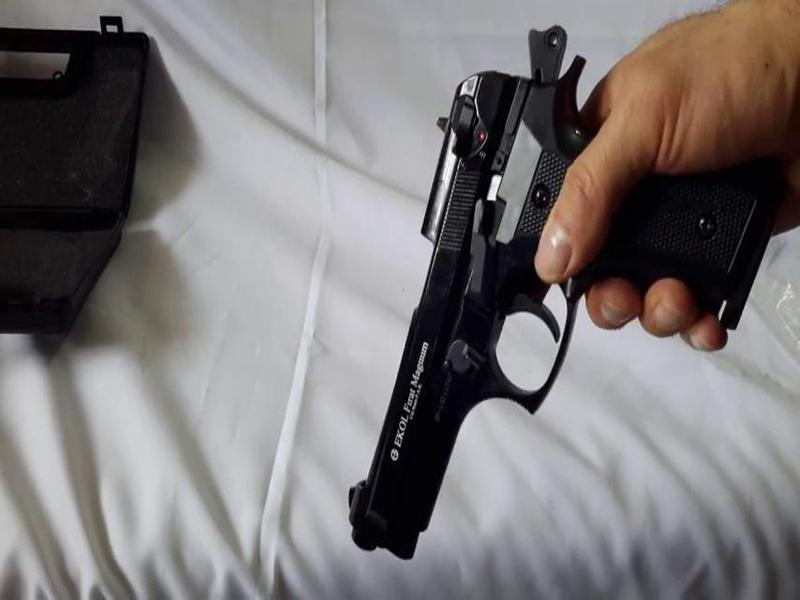Pistola: (340, 17, 773, 570)
